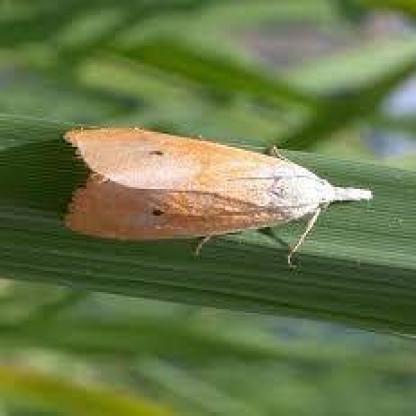stem-borer: (57, 124, 375, 242)
